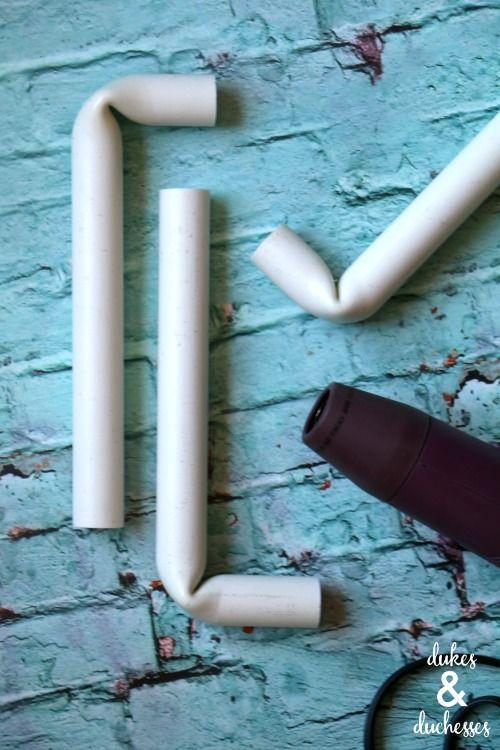PVC: (66, 146, 132, 537), (161, 183, 205, 624), (366, 135, 500, 273), (258, 216, 347, 332), (208, 571, 337, 646), (88, 73, 225, 135)
